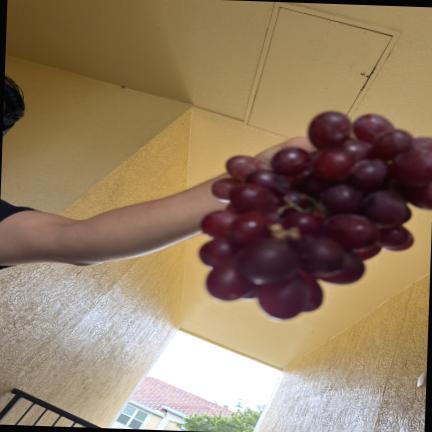grape_cluster: (200, 112, 432, 319)
